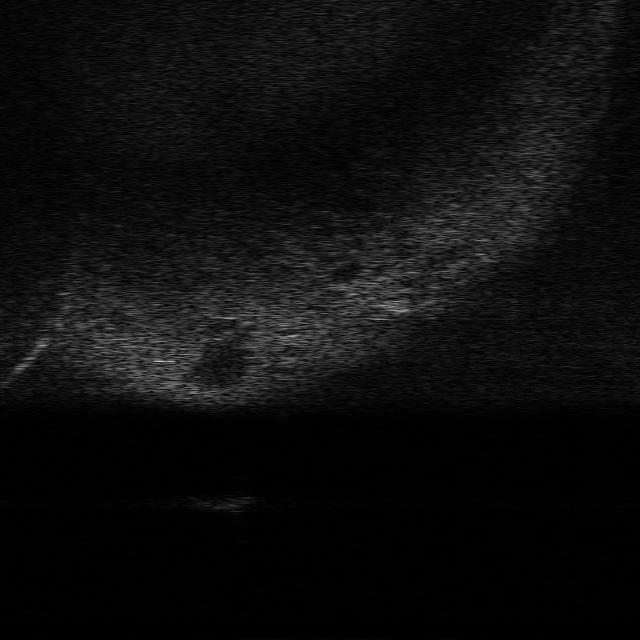cube: (184, 490, 255, 514)
